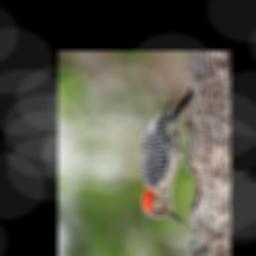Woodpecker: (135, 78, 196, 228)
